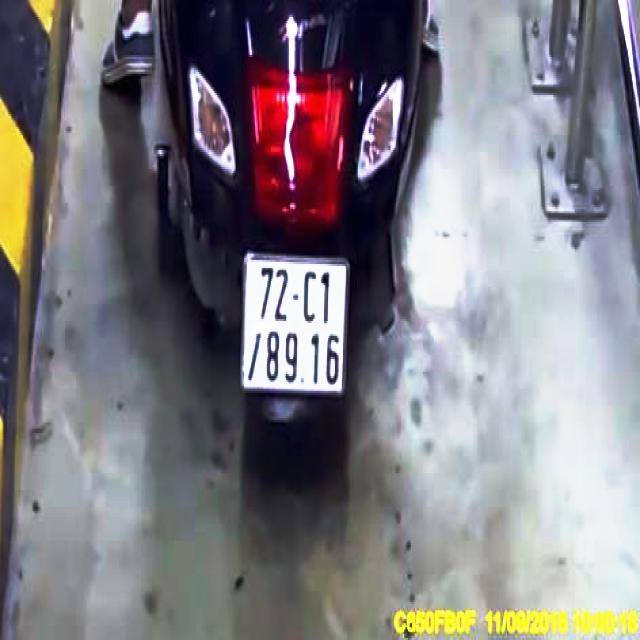license_plate: (243, 256, 351, 394)
